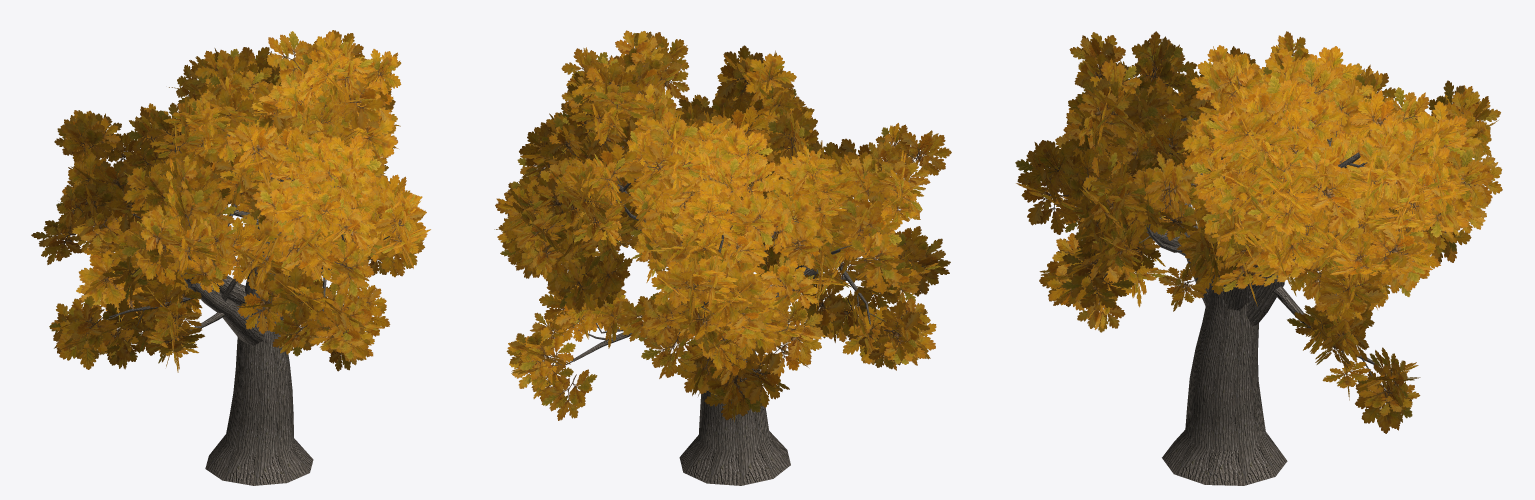
Rendered from nature-white-great-sun-oak_v2.glb.
3 views of the same model, side by side, from view 1: azimuth 30°, elevation 25°; view 2: azimuth 150°, elevation 25°; view 3: azimuth 270°, elevation 25° (orthographic). The views are drawn at different scales.
Parts seen in each view (by area): view 1: nature-white-great-sun-oak; view 2: nature-white-great-sun-oak; view 3: nature-white-great-sun-oak.
Part boxes in pixels (bbox=[...]): nature-white-great-sun-oak: bbox=[31, 30, 430, 485]; nature-white-great-sun-oak: bbox=[494, 30, 951, 485]; nature-white-great-sun-oak: bbox=[1015, 31, 1502, 485].
Bounding box in the file's own units: 13.11 × 13.18 × 13.28.
Materials: 2 (2 with a texture image).
